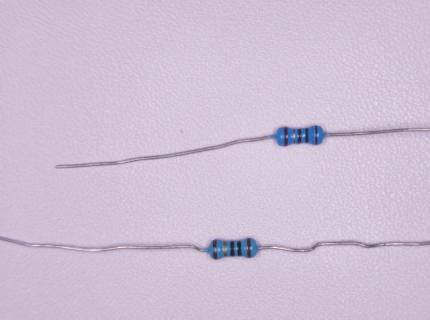Black band: (230, 240, 234, 257), (298, 128, 301, 144), (238, 241, 241, 256), (306, 128, 308, 144)
Brown band: (284, 126, 288, 147), (213, 239, 217, 259), (247, 238, 251, 258), (315, 125, 318, 146)
Gold band: (224, 241, 227, 257), (293, 129, 295, 144)
